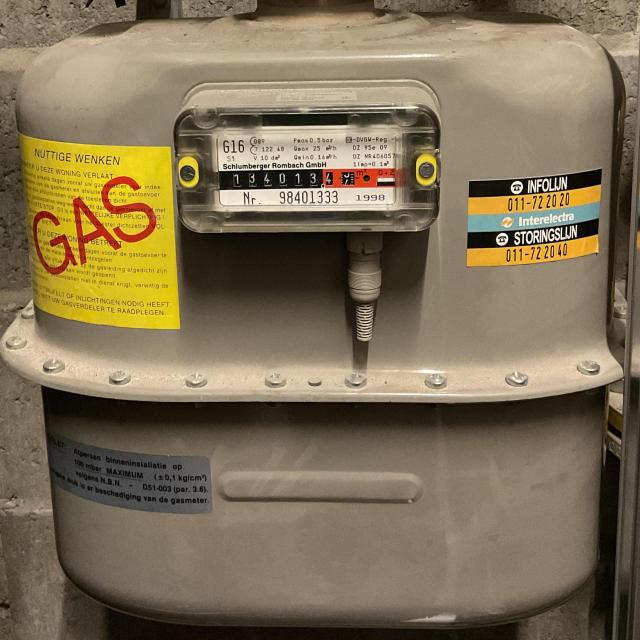gaz_meter: (214, 121, 400, 216)
indication: (219, 168, 356, 191)
